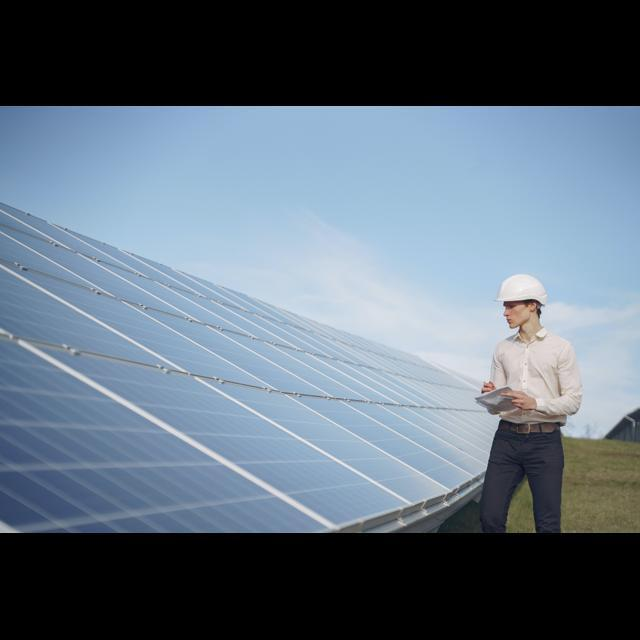helmet: (488, 268, 559, 310)
